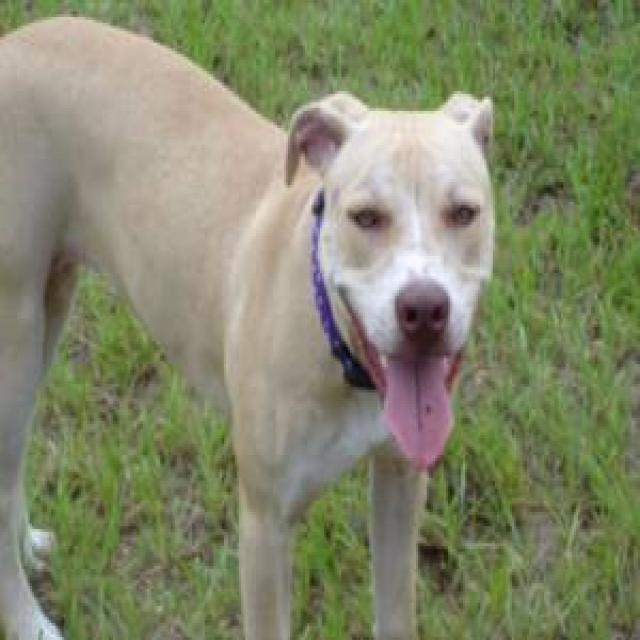dog-american_pit_bull_terrier: (2, 9, 503, 634)
